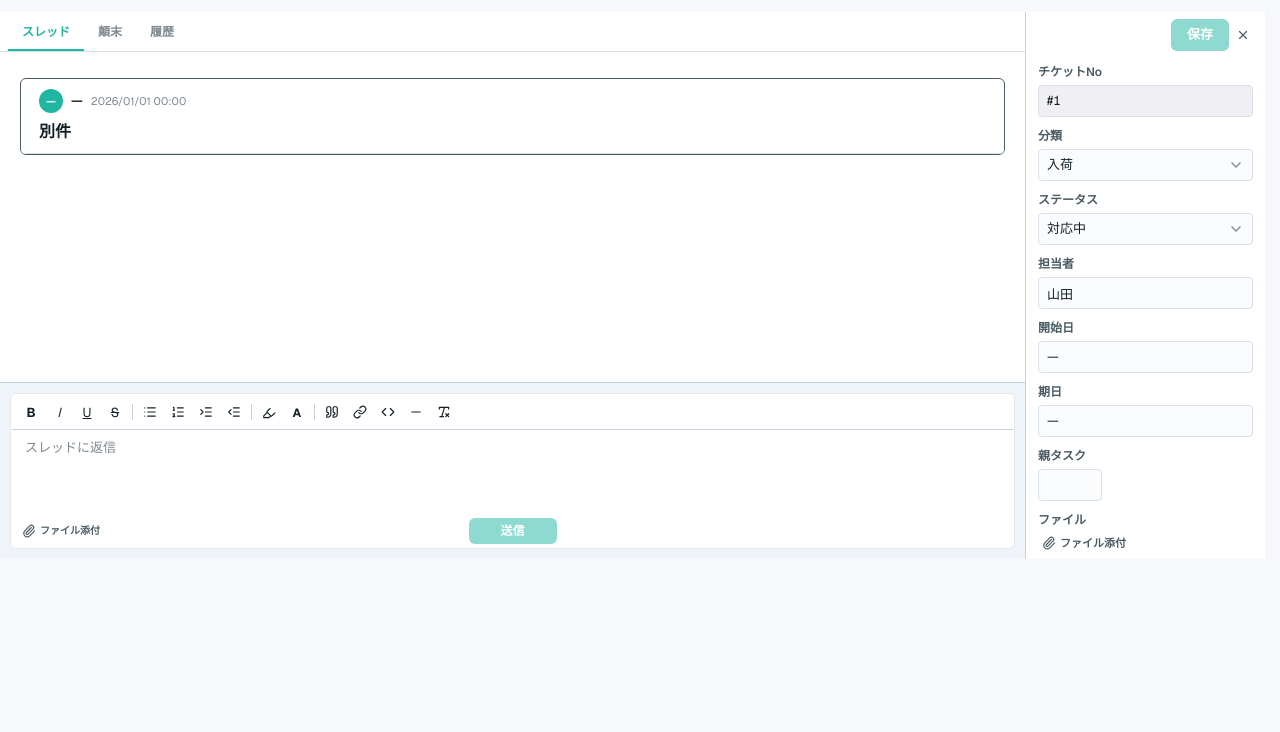
TaskDetailOverlay › taskKeyword が顛末本文にだけあるとき顛末面で sp-search-hl になること（dsk-0339）
Click the tab "顛末": (110, 32) [84, 12, 136, 51]
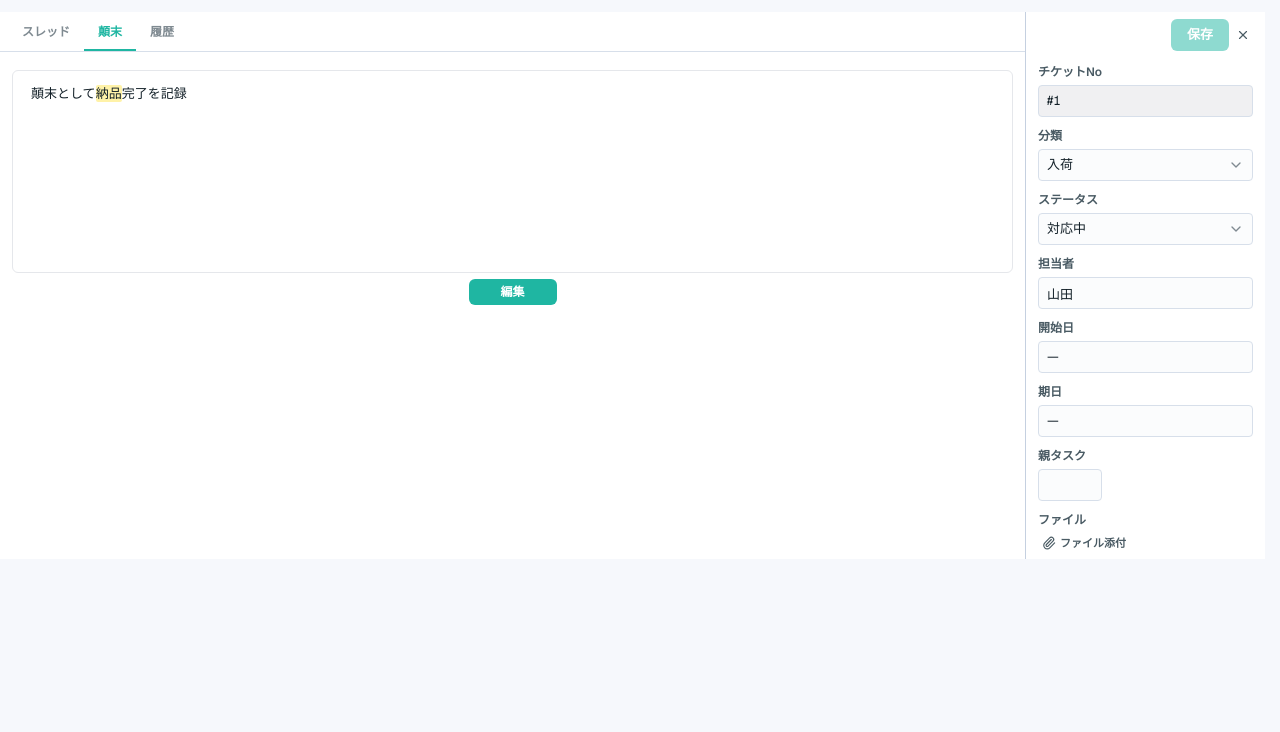
expect the text with class "sp-search-hl" reads "納品": met, box [96, 85, 122, 102]
expect the button "編集" is shown: met, box [468, 279, 556, 305]
